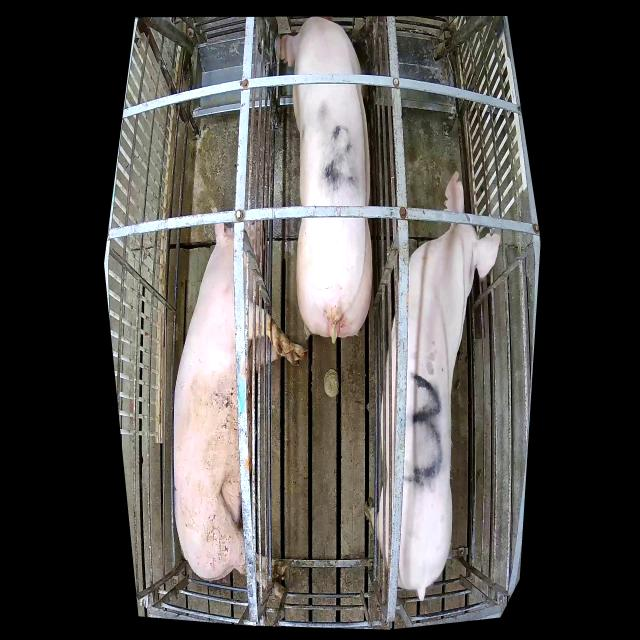pig: (362, 171, 502, 601), (174, 207, 308, 601), (280, 16, 372, 343)
